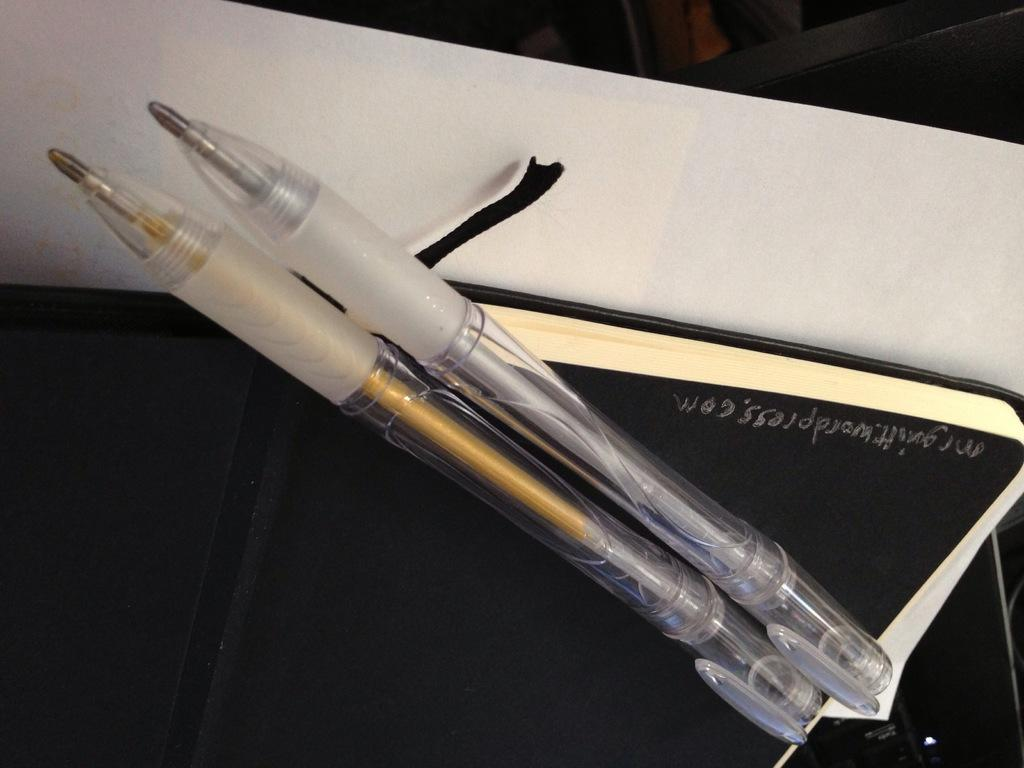pen: (46, 148, 826, 758), (145, 98, 907, 717)
